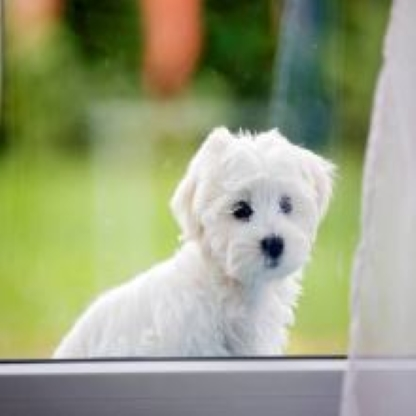maltese: (52, 122, 342, 354)
